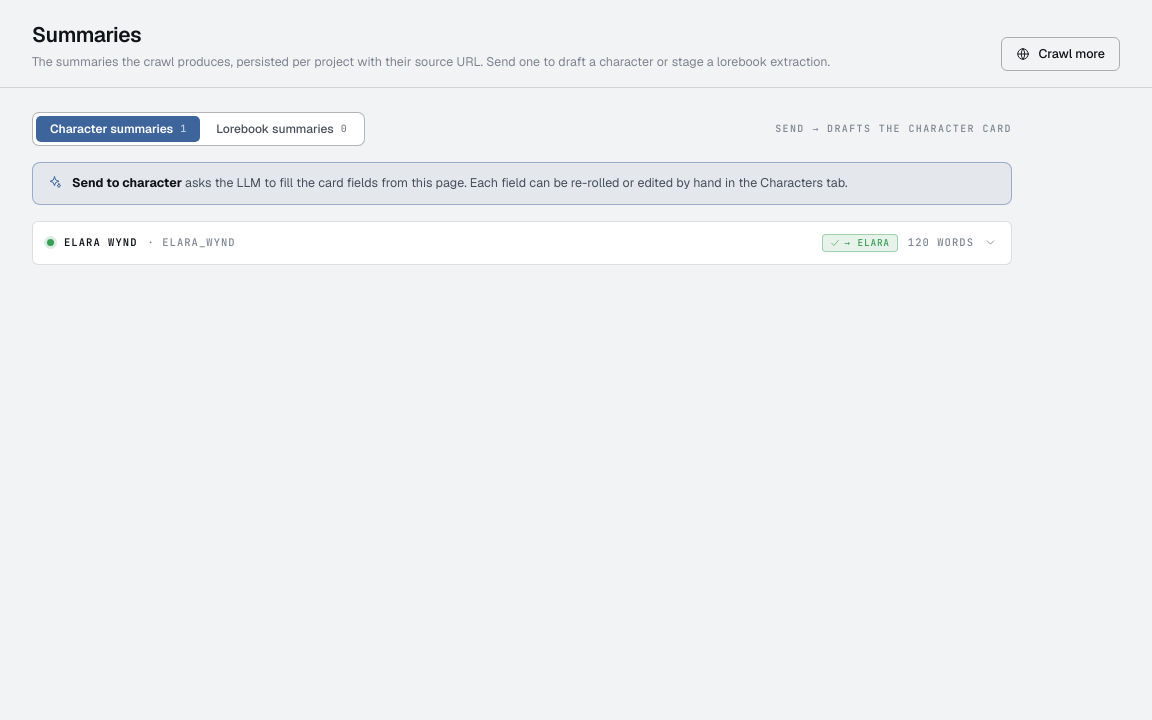
Scenario: SummariesScreen › links a page to the character it created via sourceUrl
Expected: the text "→ Elara" is shown, left=822, top=234, right=898, bottom=252
// The card offers the character jump even though the sent map is empty.
What coordinates should you click on to do the following:
click the text "Elara Wynd"
I would click on:
 (101, 243)
Its box is left=64, top=237, right=138, bottom=248.
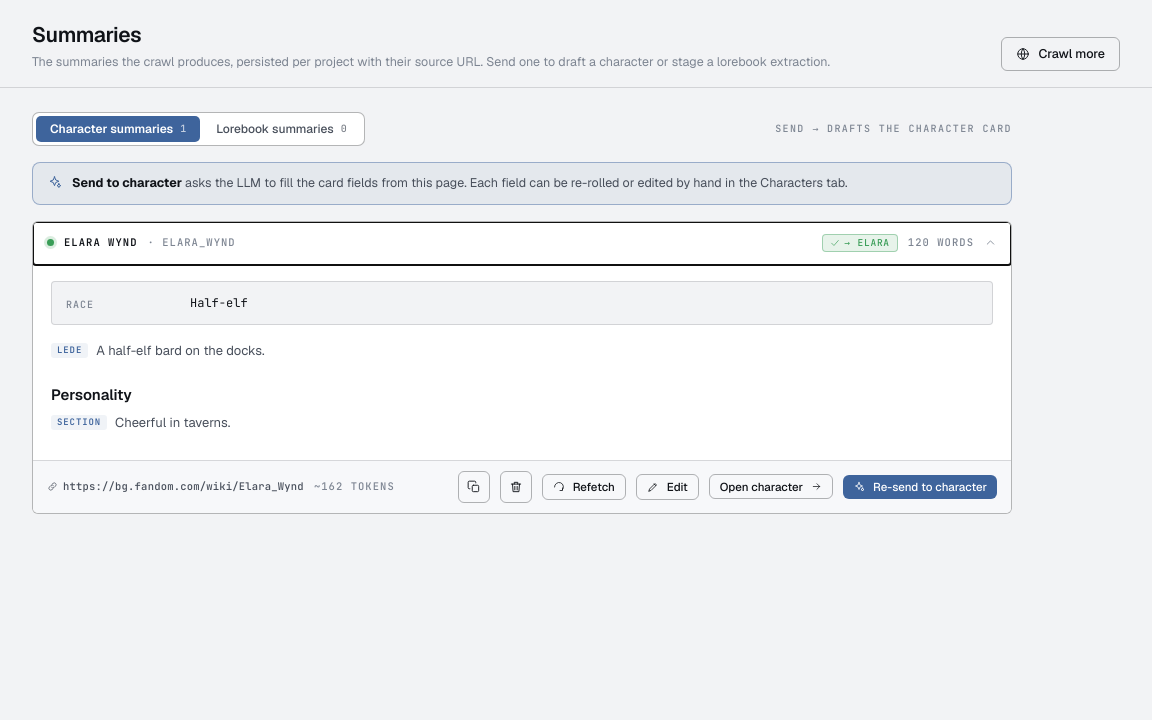
Expected: the button "Open character" is shown, left=709, top=474, right=833, bottom=499
